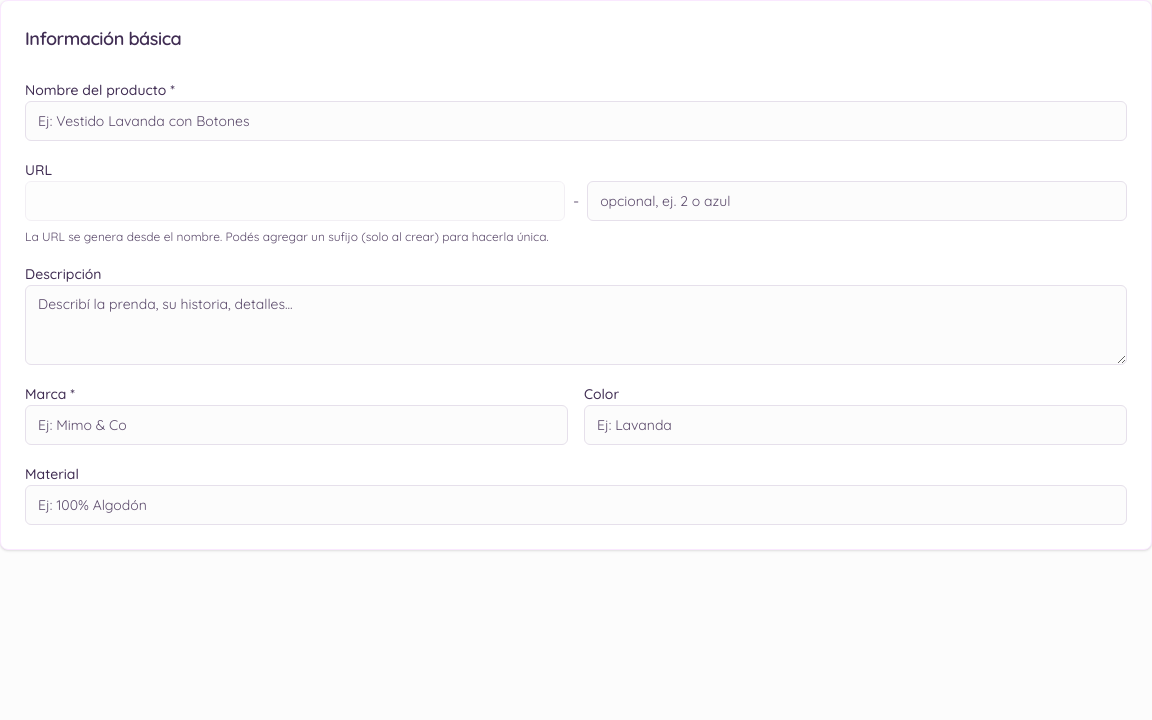
BasicInfoCard › user can type name and see slug update
The image size is (1152, 720).
Type "Remera Azul" into the field labelled "Nombre del producto *" at (576, 121), box [25,101,1127,141]
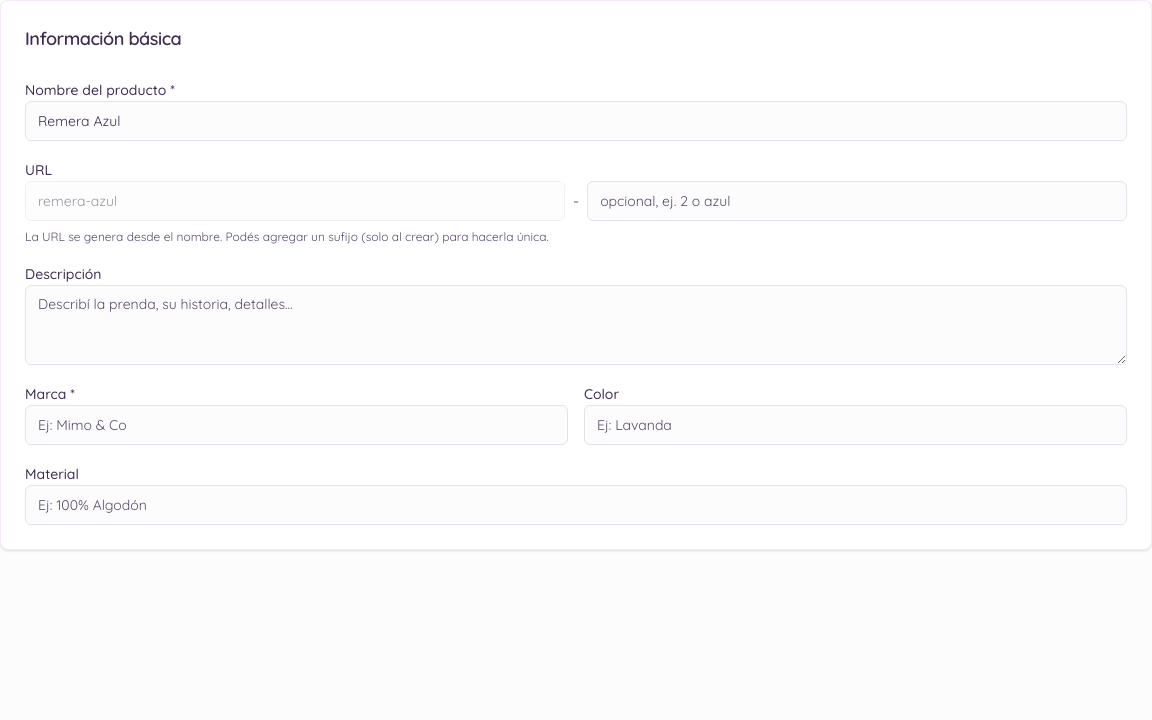
Check: the field named "URL generada desde el nombre" holds "remera-azul", box [25,181,565,221]
